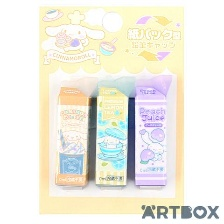carton: (133, 72, 177, 192), (52, 74, 96, 190), (93, 73, 135, 192)
